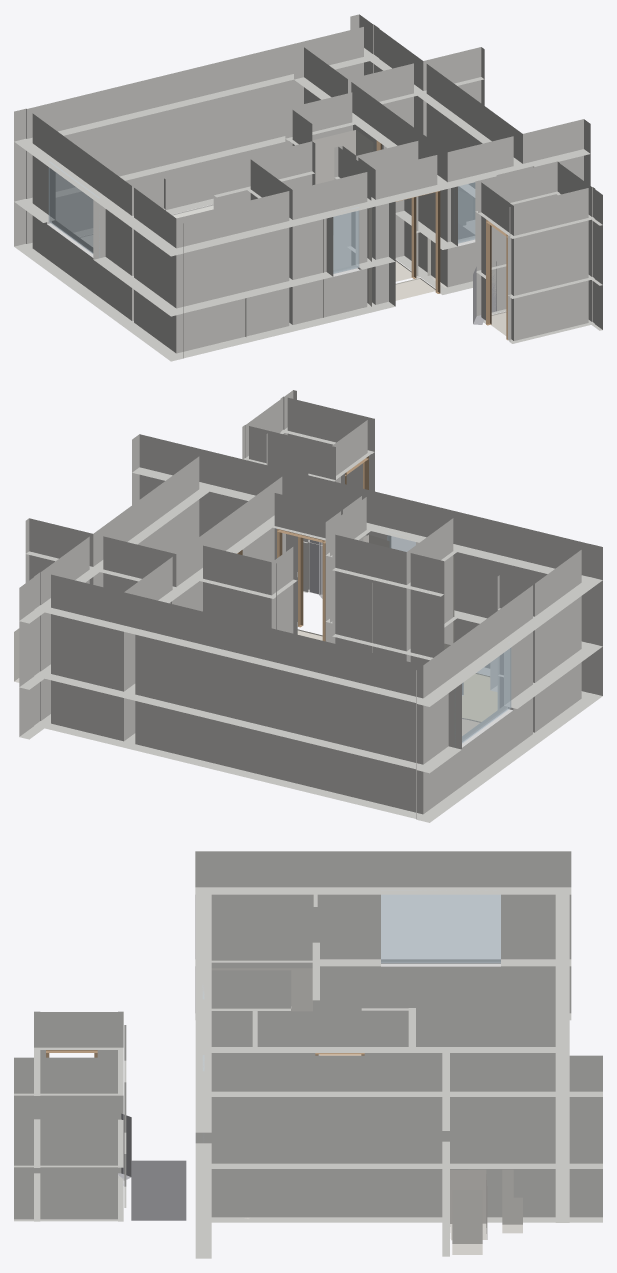
The picture shows the model from 3 angles, top to bottom: view 1: azimuth 30°, elevation 25°; view 2: azimuth 150°, elevation 25°; view 3: azimuth 270°, elevation 25°; orthographic projection. The views are drawn at different scales.
Visible parts, largest first — view 1: walls, window_0, furniture_0_closet, window_2, furniture_2_closet, window_6, door_7, door_1, floor_7_Entry, railings, door_3; view 2: walls, window_0, floor_4_Kitchen, railings, door_3; view 3: walls, window_0, railings, furniture_4_appliance, furniture_3_appliance, furniture_1_closet, furniture_10_toilet, sill_0.
Part boxes in pixels (x1=…): walls: x1=14, y1=14, x2=602, y2=361; window_0: x1=48, y1=161, x2=99, y2=257; furniture_0_closet: x1=312, y1=130, x2=373, y2=184; window_2: x1=333, y1=207, x2=359, y2=273; furniture_2_closet: x1=334, y1=207, x2=371, y2=310; window_6: x1=454, y1=182, x2=475, y2=243; door_7: x1=486, y1=219, x2=507, y2=340; door_1: x1=396, y1=191, x2=440, y2=293; floor_7_Entry: x1=395, y1=278, x2=435, y2=300; railings: x1=473, y1=261, x2=496, y2=324; door_3: x1=411, y1=197, x2=416, y2=278; walls: x1=19, y1=390, x2=602, y2=822; window_0: x1=455, y1=648, x2=511, y2=744; floor_4_Kitchen: x1=462, y1=673, x2=497, y2=721; railings: x1=309, y1=540, x2=322, y2=598; door_3: x1=277, y1=529, x2=325, y2=641; walls: x1=14, y1=851, x2=602, y2=1258; window_0: x1=381, y1=894, x2=500, y2=963; railings: x1=118, y1=1113, x2=186, y2=1220; furniture_4_appliance: x1=452, y1=1190, x2=482, y2=1254; furniture_3_appliance: x1=450, y1=1169, x2=487, y2=1240; furniture_1_closet: x1=211, y1=968, x2=312, y2=1011; furniture_10_toilet: x1=502, y1=1197, x2=522, y2=1233; sill_0: x1=381, y1=961, x2=500, y2=966.
Size of the model in its own units: 8.78 by 2.72 by 8.91.
